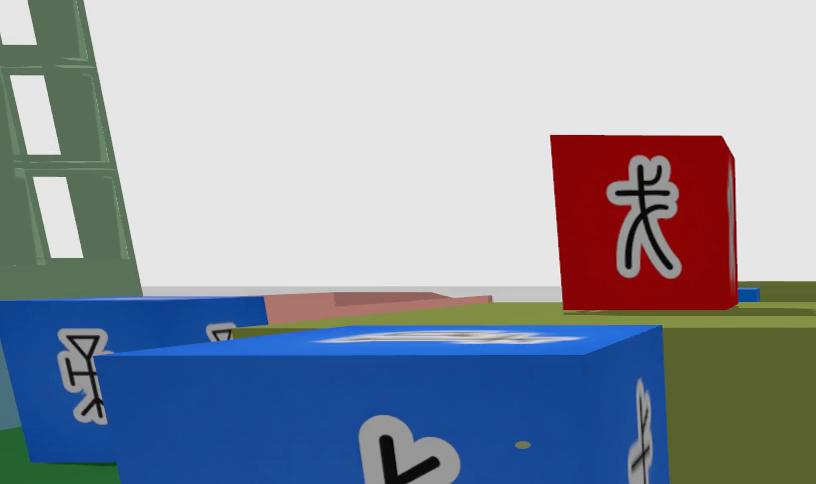KFS_FAKE: (606, 155, 681, 279)
KFS_REAL: (0, 297, 266, 462), (57, 328, 110, 424), (318, 329, 580, 345), (627, 380, 653, 483), (206, 322, 236, 342)
